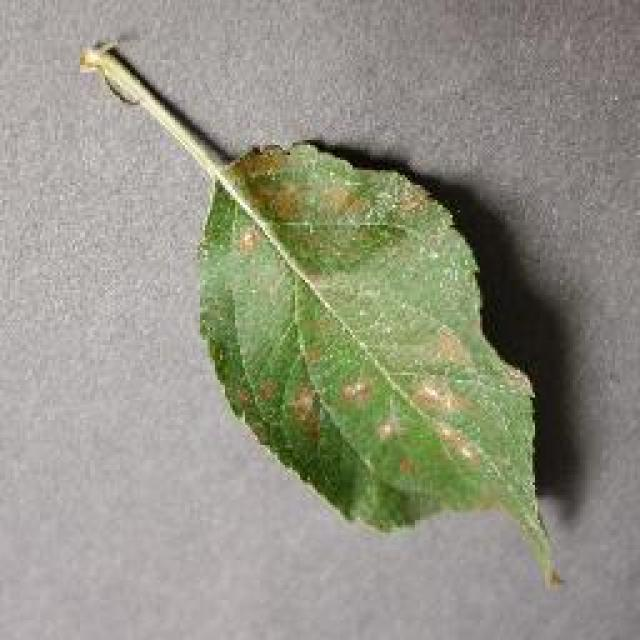Apple___Cedar_apple_rust: (186, 135, 572, 596)
